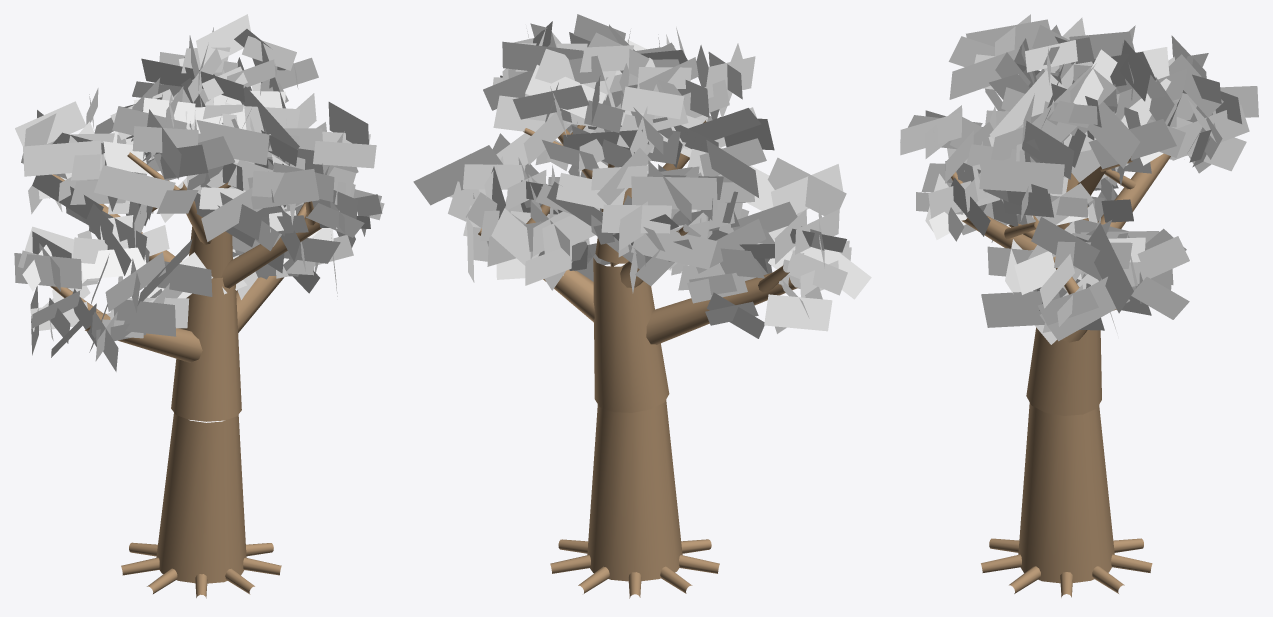
The model's file is oak_03.gltf.
The picture shows the model from 3 angles, left to right: view 1: azimuth 30°, elevation 25°; view 2: azimuth 150°, elevation 25°; view 3: azimuth 270°, elevation 25°; orthographic projection. The views are drawn at different scales.
Parts seen in each view (by area): view 1: Bark, Leaf_Foliage_0, Leaf_Foliage_4, LeafLight_Foliage_3, LeafLight_Foliage_5, Leaf_Foliage_2, LeafLight_Foliage_1; view 2: Bark, Leaf_Foliage_0, Leaf_Foliage_2, LeafLight_Foliage_5, LeafLight_Foliage_1, Leaf_Foliage_4, LeafLight_Foliage_3; view 3: Bark, LeafLight_Foliage_1, LeafLight_Foliage_5, LeafLight_Foliage_3, Leaf_Foliage_4, Leaf_Foliage_2, Leaf_Foliage_0.
Part boxes in pixels (left/top/right/bottom): Bark: left=50, top=152, right=321, bottom=598; Leaf_Foliage_0: left=14, top=211, right=212, bottom=371; Leaf_Foliage_4: left=94, top=78, right=300, bottom=213; LeafLight_Foliage_3: left=186, top=102, right=376, bottom=261; LeafLight_Foliage_5: left=125, top=14, right=322, bottom=166; Leaf_Foliage_2: left=15, top=88, right=187, bottom=247; LeafLight_Foliage_1: left=222, top=189, right=384, bottom=299; Bark: left=478, top=120, right=797, bottom=598; Leaf_Foliage_0: left=668, top=157, right=871, bottom=338; Leaf_Foliage_2: left=542, top=128, right=766, bottom=293; LeafLight_Foliage_5: left=483, top=14, right=688, bottom=171; LeafLight_Foliage_1: left=413, top=133, right=610, bottom=290; Leaf_Foliage_4: left=602, top=27, right=774, bottom=167; LeafLight_Foliage_3: left=492, top=32, right=712, bottom=176; Bark: left=951, top=153, right=1170, bottom=597; LeafLight_Foliage_1: left=981, top=199, right=1189, bottom=344; LeafLight_Foliage_5: left=988, top=31, right=1186, bottom=179; LeafLight_Foliage_3: left=900, top=105, right=1100, bottom=241; Leaf_Foliage_4: left=948, top=14, right=1094, bottom=177; Leaf_Foliage_2: left=1100, top=25, right=1258, bottom=185; Leaf_Foliage_0: left=921, top=110, right=1118, bottom=242.
Bounding box in the file's own units: 3.72 × 4.96 × 2.93.
